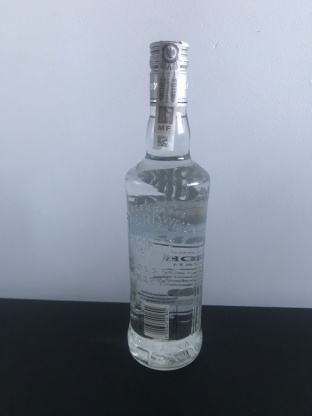nakretka: (147, 36, 191, 110)
